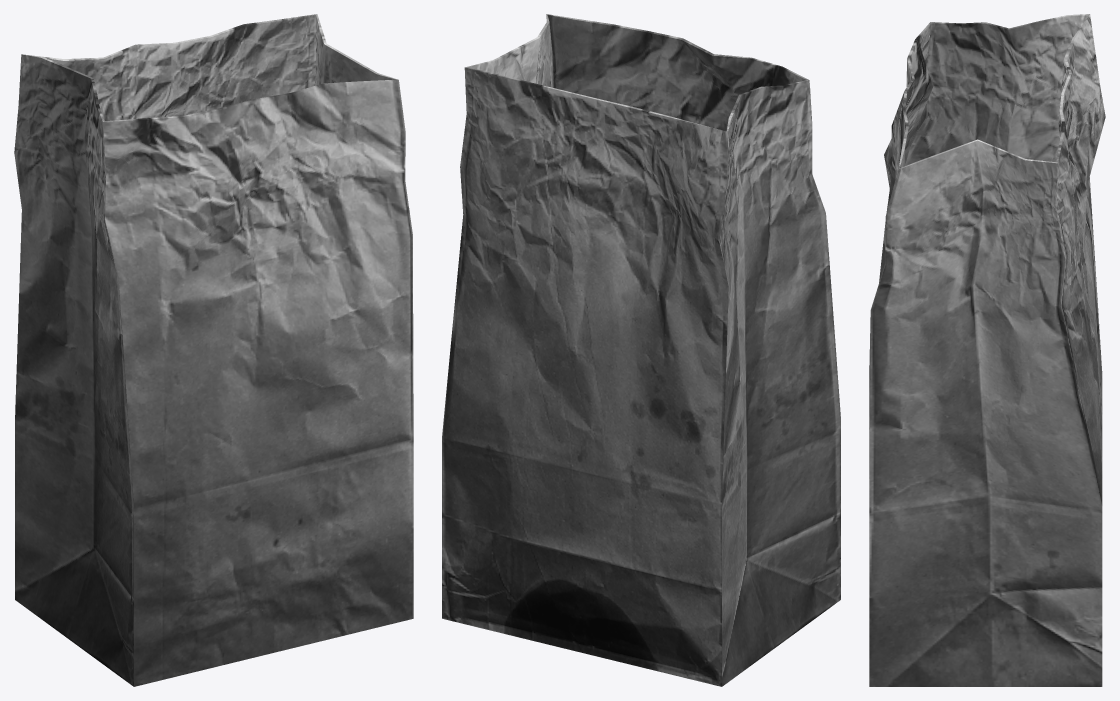
Rendered from fast_food_bag_1.fbx.
The picture shows the model from 3 angles, left to right: view 1: azimuth 30°, elevation 25°; view 2: azimuth 150°, elevation 25°; view 3: azimuth 270°, elevation 25°; orthographic projection. The views are drawn at different scales.
Visible parts, largest first — view 1: fast_food_bag_1; view 2: fast_food_bag_1; view 3: fast_food_bag_1.
Part boxes in pixels (bbox=[...]): fast_food_bag_1: bbox=[14, 14, 413, 686]; fast_food_bag_1: bbox=[442, 14, 840, 686]; fast_food_bag_1: bbox=[869, 14, 1105, 686].
Bounding box in the file's own units: 27.65 × 51.97 × 20.54.
